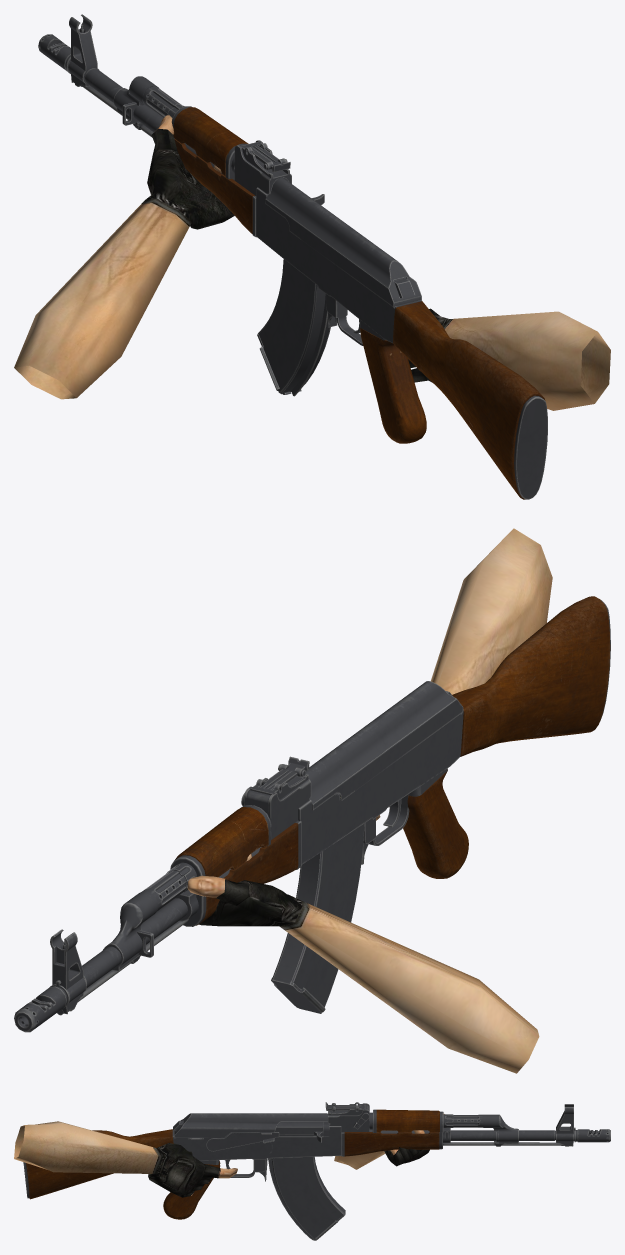
File: viewmodel_ak.glb
3 views of the same model, one above another, from view 1: azimuth 30°, elevation 25°; view 2: azimuth 150°, elevation 25°; view 3: azimuth 270°, elevation 25° (orthographic). The views are drawn at different scales.
Visible parts, largest first — view 1: AK47_Body, CSH_SupportHand, CSH_GripHand, AK47_Mag; view 2: AK47_Body, CSH_SupportHand, CSH_GripHand, AK47_Mag; view 3: AK47_Body, CSH_GripHand, AK47_Mag, CSH_SupportHand, AK47_Bolt.
Part boxes in pixels (bbox=[...]): AK47_Body: bbox=[38, 14, 547, 499]; CSH_SupportHand: bbox=[14, 115, 234, 399]; CSH_GripHand: bbox=[408, 308, 610, 410]; AK47_Mag: bbox=[257, 259, 330, 396]; AK47_Body: bbox=[14, 596, 610, 1032]; CSH_SupportHand: bbox=[187, 854, 539, 1073]; CSH_GripHand: bbox=[376, 528, 552, 820]; AK47_Mag: bbox=[271, 795, 364, 1013]; AK47_Body: bbox=[23, 1102, 610, 1219]; CSH_GripHand: bbox=[14, 1121, 237, 1197]; AK47_Mag: bbox=[268, 1156, 345, 1240]; CSH_SupportHand: bbox=[334, 1114, 444, 1169]; AK47_Bolt: bbox=[275, 1121, 323, 1142].
Size of the model in its own units: 0.3449 by 0.237 by 0.9527.
Materials: 4 (4 with a texture image).
